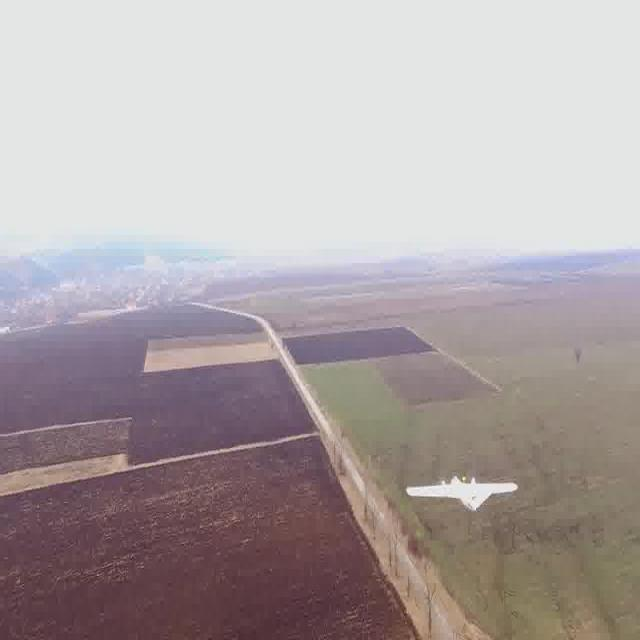iha: (396, 492, 527, 505)
